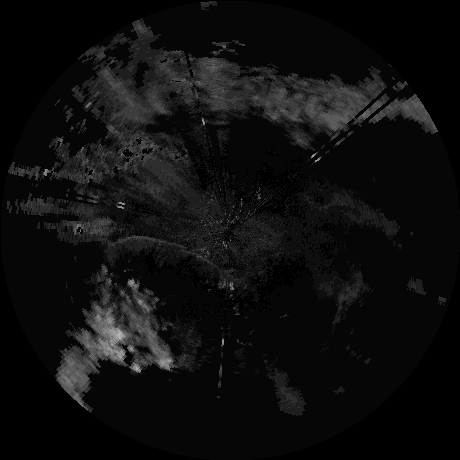frontgust: (109, 232, 216, 273)
